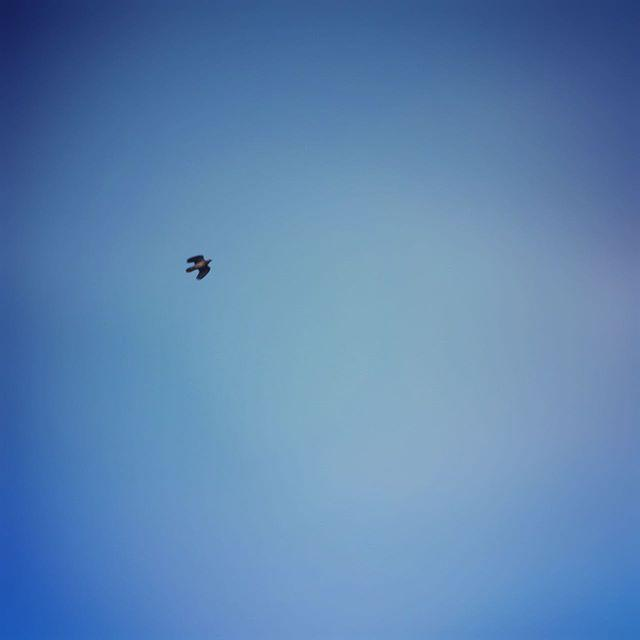bird: (182, 247, 213, 285)
